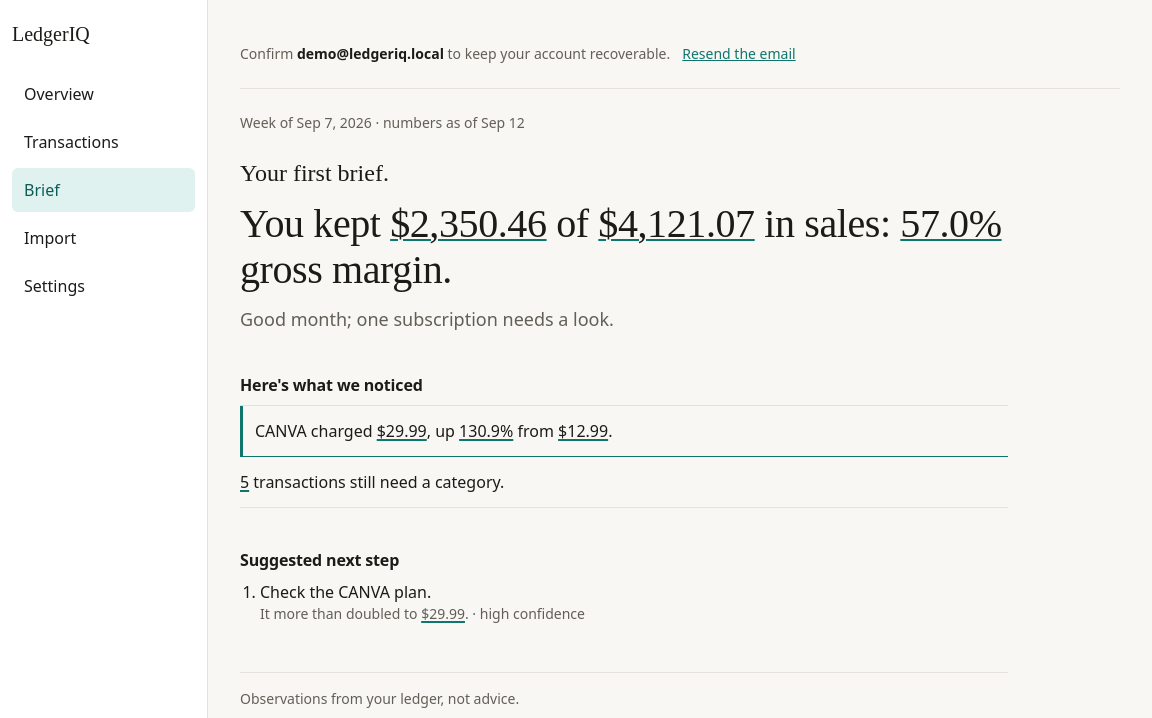
Brief page › renders the first-open reveal, findings ordered as given, numbers with evidence popovers, and the footer
This screenshot has width=1152, height=718.
Expected: the heading that starts with "You kept" reads "You kept $2,350.46 of $4,121.07 in sales: 57.0% gross margin.", [240,201,1008,293]
Expected: the text "Your first brief." is shown, [240,160,389,186]
Click the button "$2,350.46" at (468, 224), box [390,201,547,247]
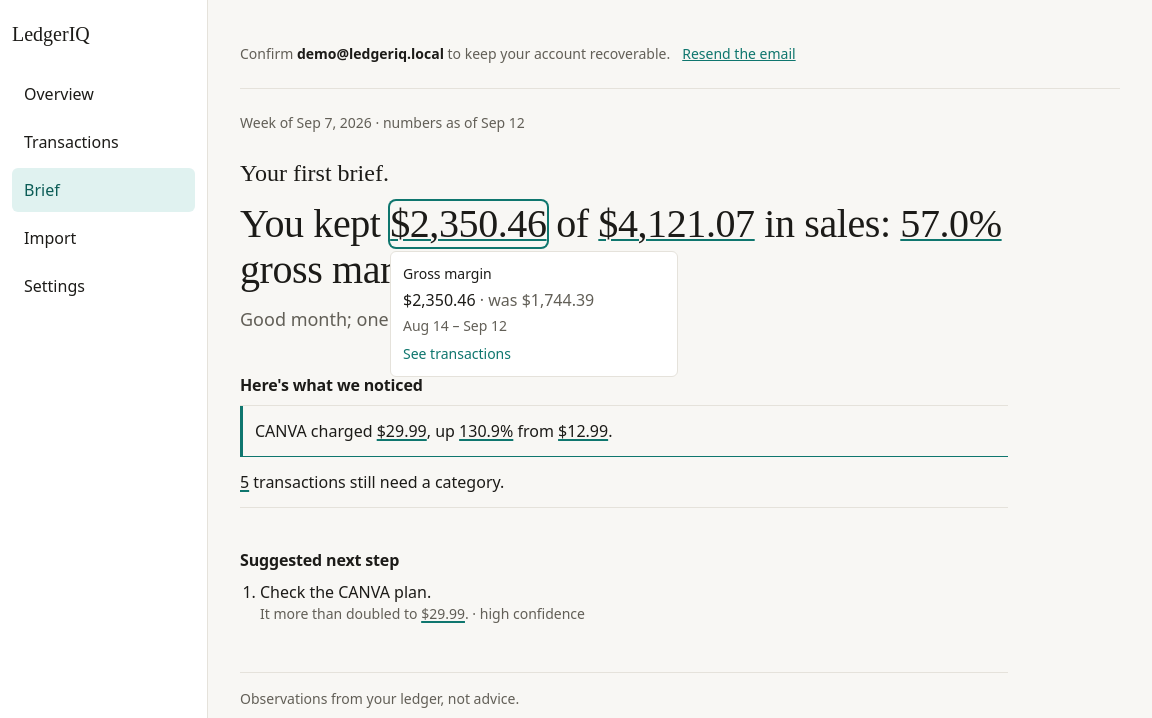
Expected: the text "Gross margin" is shown, [403,264,492,283]
Expected: the text "· was $1,744.39" is shown, [476,289,594,311]
Click the button "$29.99" next to "CANVA charged" at (402, 431), box [377,418,427,444]
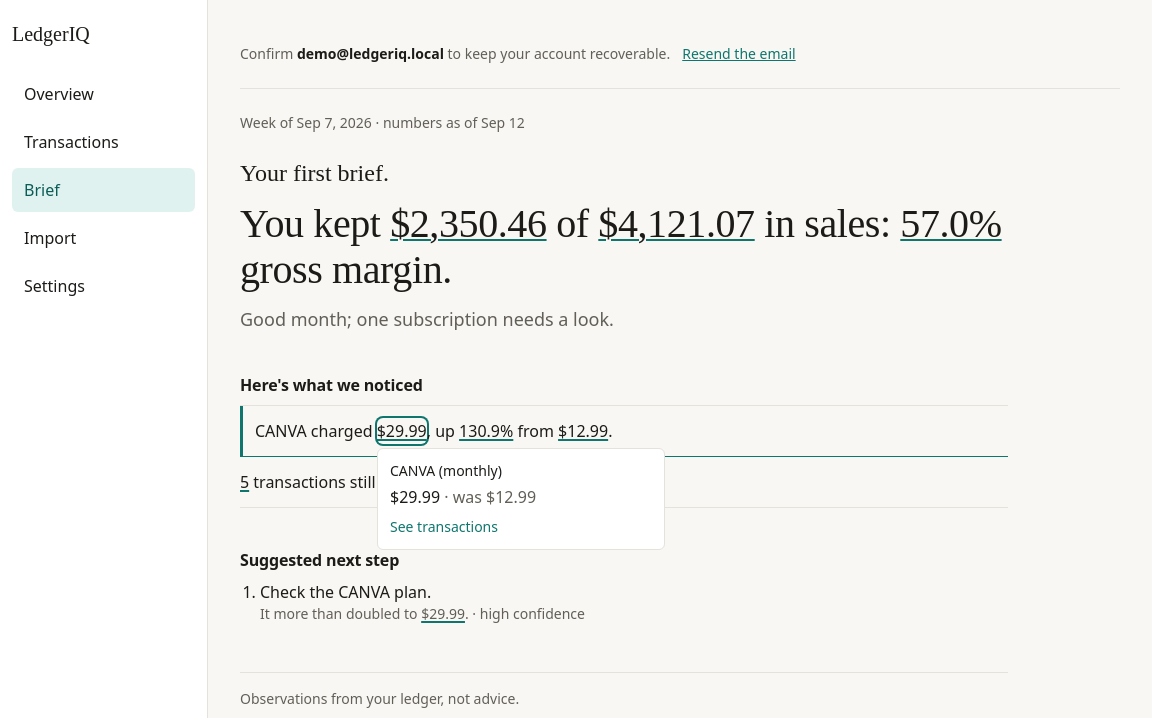
Expected: the text "CANVA (monthly)" is shown, [390,461,502,480]
Click the button "5" at (245, 482), box [240,469,249,495]
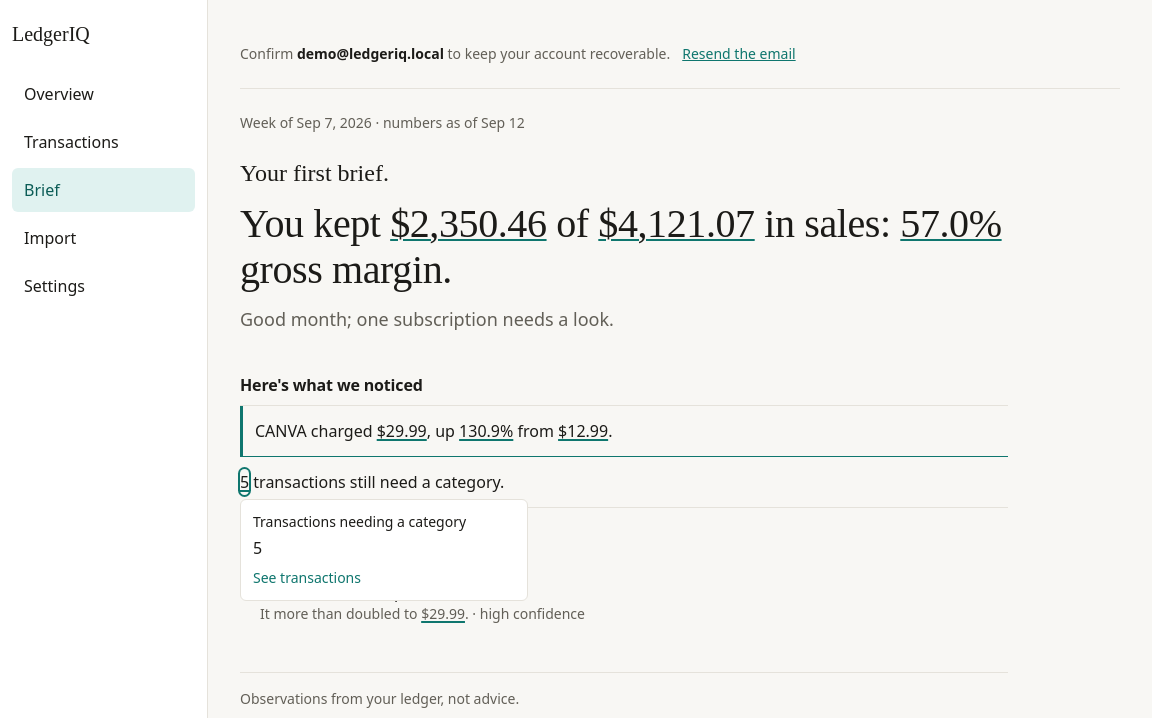
Expected: the text "Transactions needing a category" is shown, [253,512,466,531]
